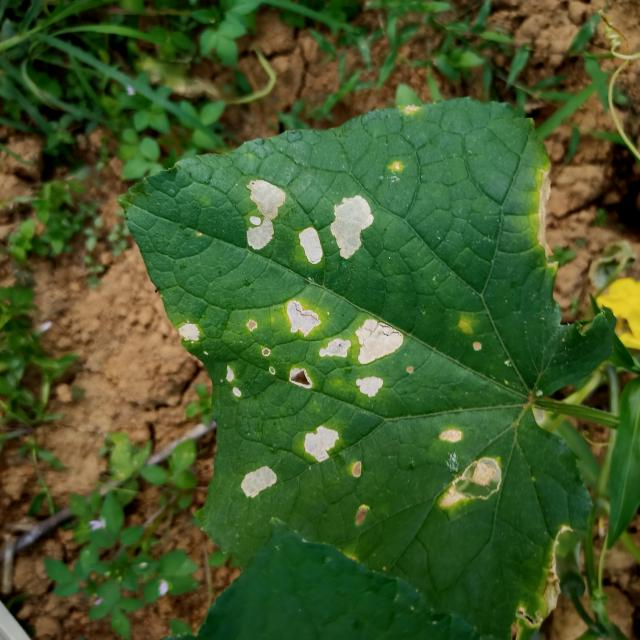disease_cucumber: (284, 294, 404, 400), (296, 193, 375, 265), (437, 426, 502, 509), (244, 175, 285, 251), (302, 423, 340, 463), (238, 462, 278, 499), (222, 362, 244, 405), (177, 321, 203, 344)
